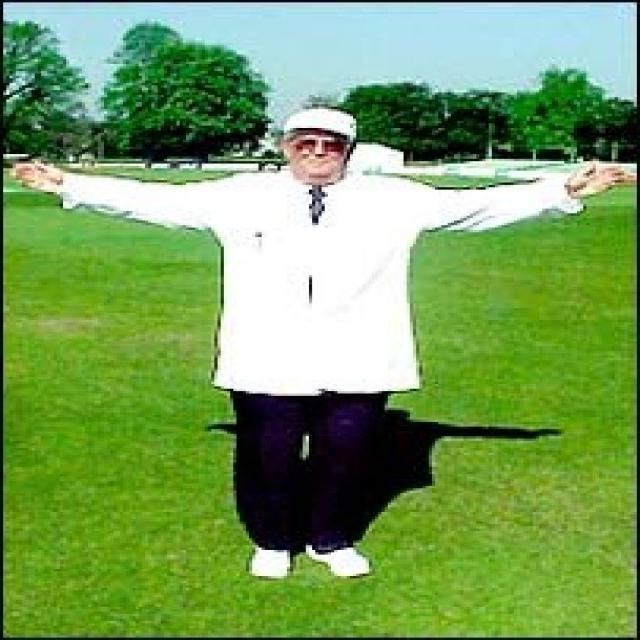Wide: (0, 94, 639, 586)
